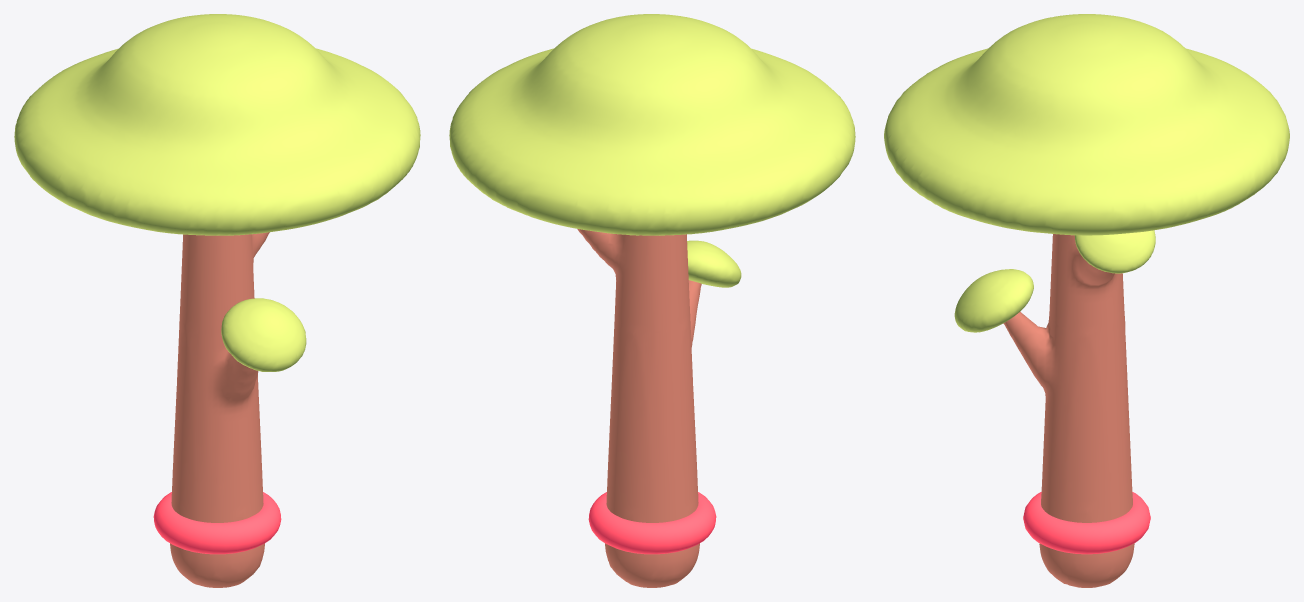
Rendered from TreeA.fbx.
3 renders of one model, left to right at view 1: azimuth 30°, elevation 25°; view 2: azimuth 150°, elevation 25°; view 3: azimuth 270°, elevation 25°, orthographic.
Visible parts, largest first — view 1: Volume_Mesher_6, Volume_Mesher, Polygon_2, Torus; view 2: Volume_Mesher_6, Volume_Mesher, Torus, Polygon_2; view 3: Volume_Mesher_6, Volume_Mesher, Torus, Polygon_2, Polygon.
Boxes of the visible parts, x1,y1,x2,y2 form: Volume_Mesher_6: (14,14,420,235); Volume_Mesher: (170,232,269,587); Polygon_2: (221,298,306,371); Torus: (153,492,281,554); Volume_Mesher_6: (449,14,855,235); Volume_Mesher: (577,229,701,587); Torus: (588,492,716,554); Polygon_2: (687,240,741,287); Volume_Mesher_6: (884,14,1289,235); Volume_Mesher: (1003,234,1134,587); Torus: (1023,492,1150,554); Polygon_2: (954,269,1033,332); Polygon: (1074,230,1155,273).
Size of the model in its own units: 4694 by 6977 by 4693.
